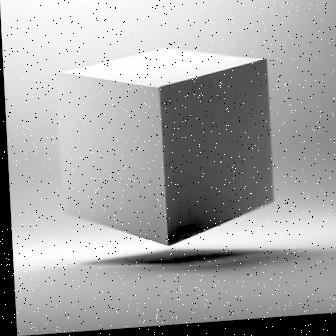cube: (57, 45, 275, 251)
